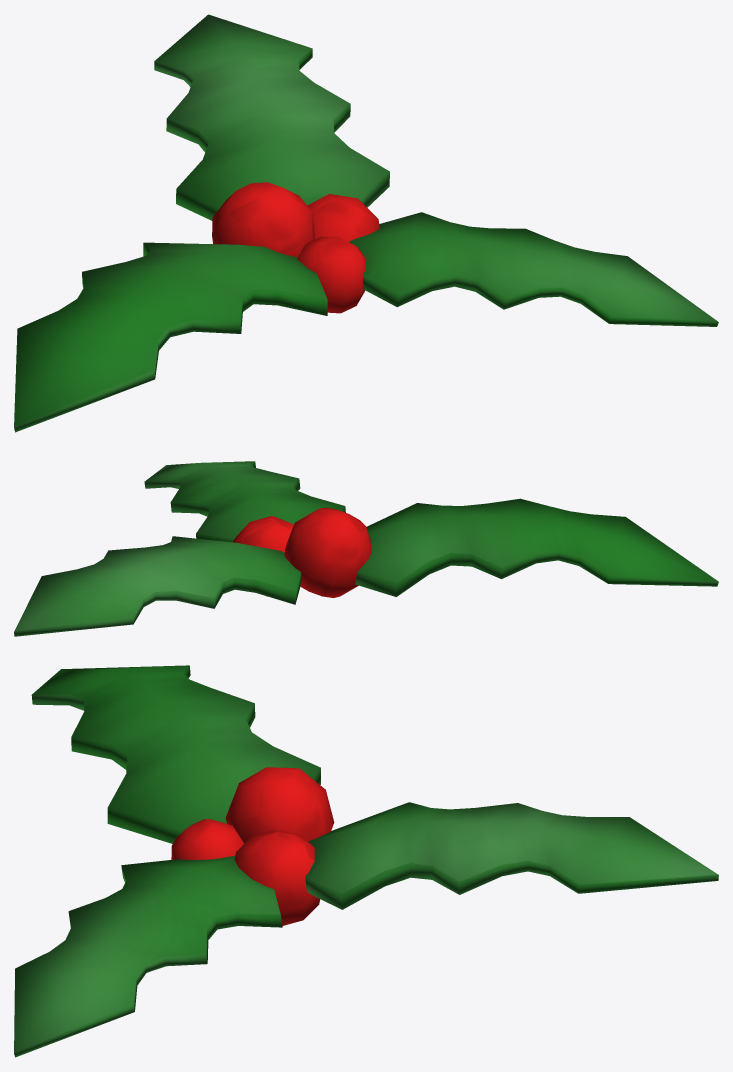
File: HollyLeaves.fbx
3 views of the same model, one above another, from view 1: azimuth 30°, elevation 25°; view 2: azimuth 150°, elevation 25°; view 3: azimuth 270°, elevation 25° (orthographic). The views are drawn at different scales.
Parts seen in each view (by area): view 1: HollyLeaves; view 2: HollyLeaves; view 3: HollyLeaves.
Boxes of the visible parts, x1=… form: HollyLeaves: x1=14, y1=14, x2=718, y2=432; HollyLeaves: x1=14, y1=461, x2=718, y2=636; HollyLeaves: x1=14, y1=665, x2=718, y2=1057.
Bounding box in the file's own units: 304 × 52.35 × 267.
